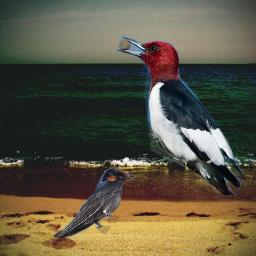Swallow: (53, 168, 133, 238)
Woodpecker: (115, 33, 248, 195)
